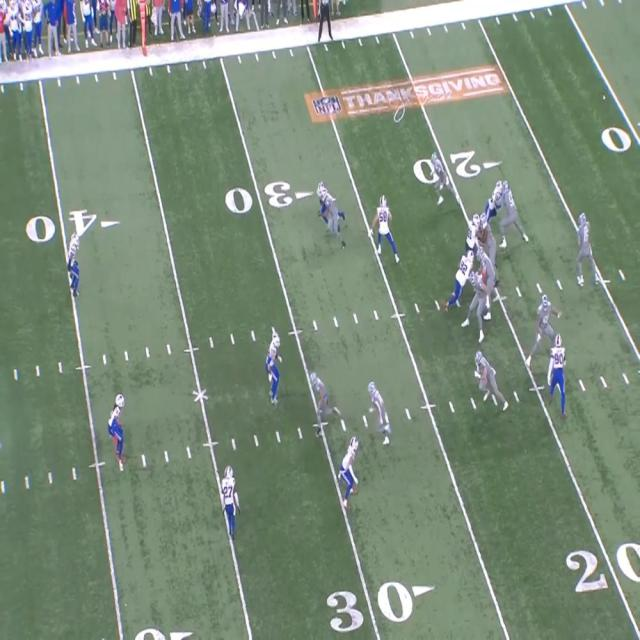db: (223, 462, 240, 542), (110, 391, 127, 466), (342, 435, 359, 508), (269, 336, 282, 406), (69, 231, 83, 292)
lb: (375, 197, 395, 261), (316, 180, 330, 230)
qb: (576, 209, 592, 282)
skill: (476, 351, 504, 408), (371, 382, 394, 446), (322, 190, 342, 246), (312, 372, 330, 432), (431, 156, 446, 208)
